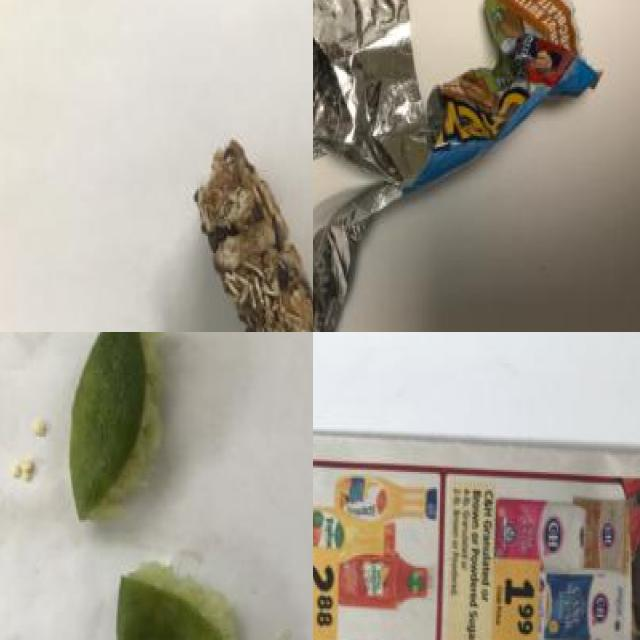compost: (30, 332, 302, 640), (180, 124, 313, 332)
paper: (313, 413, 640, 640)
trash: (313, 0, 607, 332)
